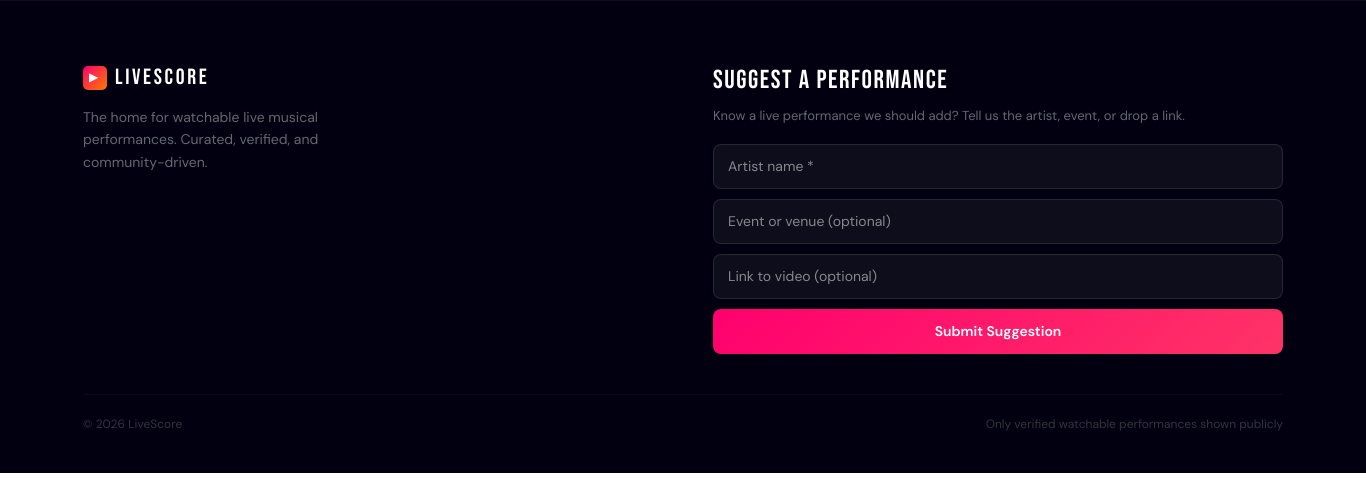
Test: SuggestFooter › shows the thank-you state after a successful insert
The width and height of the screenshot is (1366, 490).
Step 1. Type "Radiohead" into the field with placeholder "Artist name *" → (998, 166), box [713,144,1283,188]
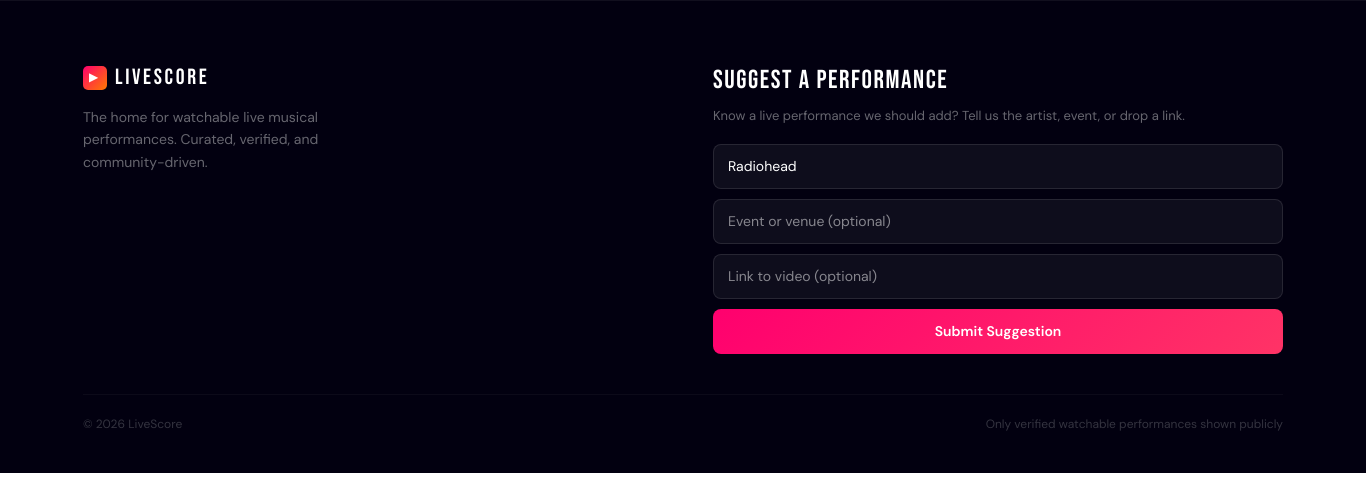
Step 2. Click the button "Submit Suggestion" → (998, 331), box [713,308,1283,354]
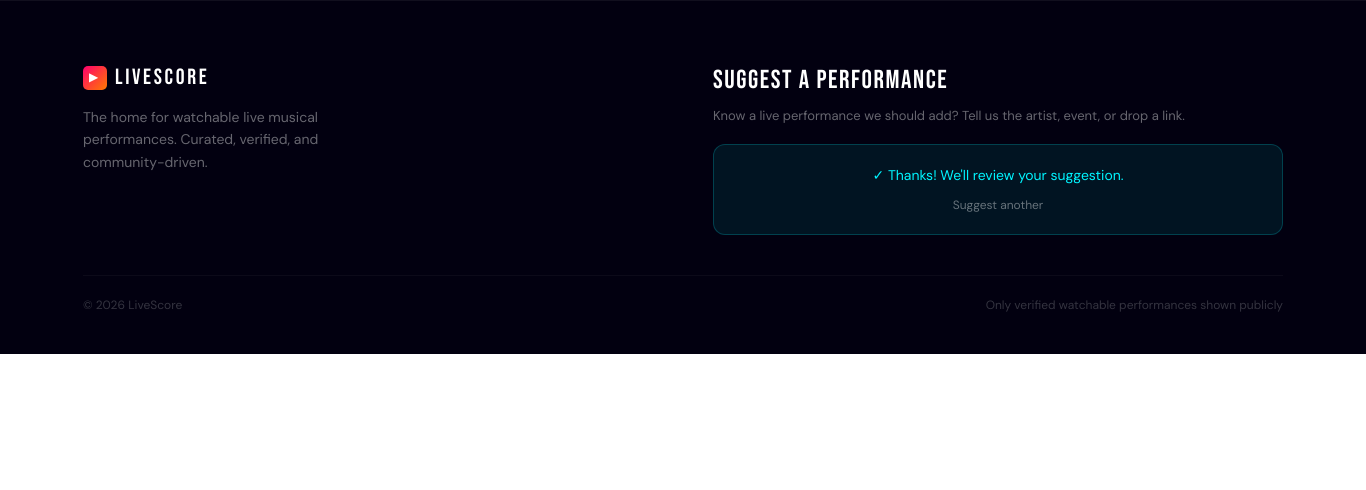
Now the text "✓ Thanks! We'll review your suggestion. Suggest another" is shown, box [713,144,1283,234]
Now the button "Submit Suggestion" is gone
